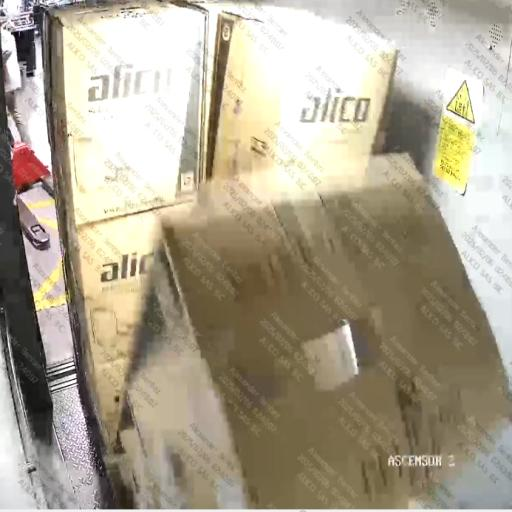Caja caida: (59, 16, 504, 503)
